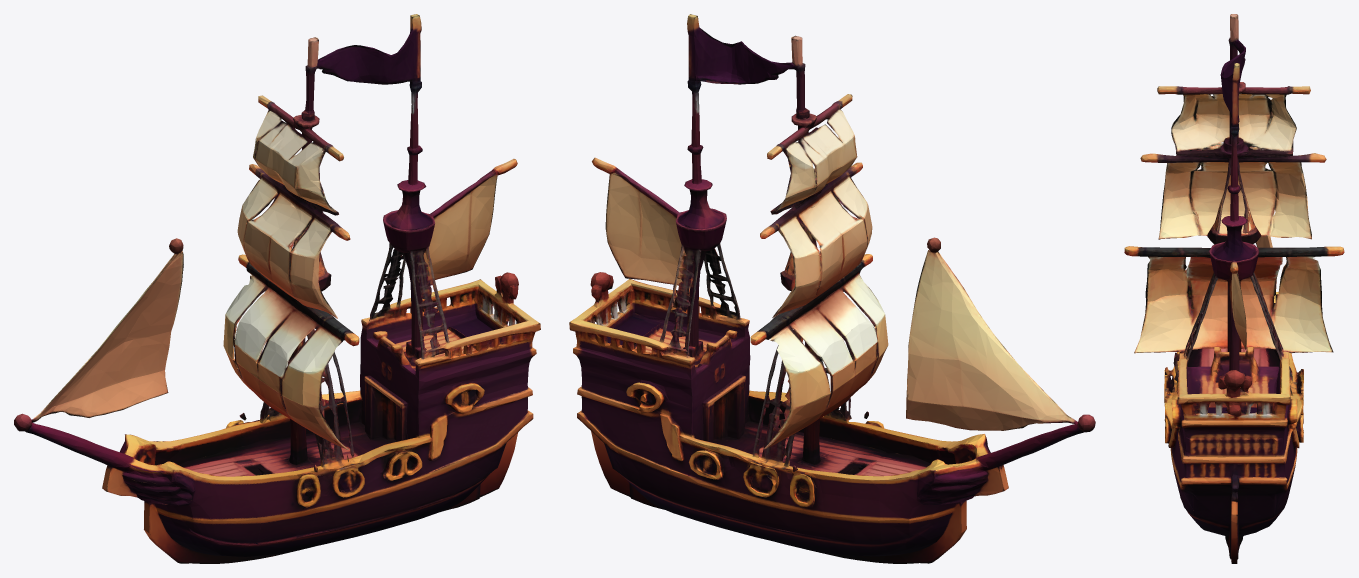
File: ship2.glb
The picture shows the model from 3 angles, left to right: view 1: azimuth 30°, elevation 25°; view 2: azimuth 150°, elevation 25°; view 3: azimuth 270°, elevation 25°; orthographic projection. The views are drawn at different scales.
Visible parts, largest first — view 1: world; view 2: world; view 3: world.
Boxes of the visible parts, <box> form: world: <box>14,14,540,563</box>; world: <box>569,14,1095,563</box>; world: <box>1124,14,1344,563</box>.
Size of the model in its own units: 0.9994 by 0.9567 by 0.4035.
Materials: 1 (1 with a texture image).
